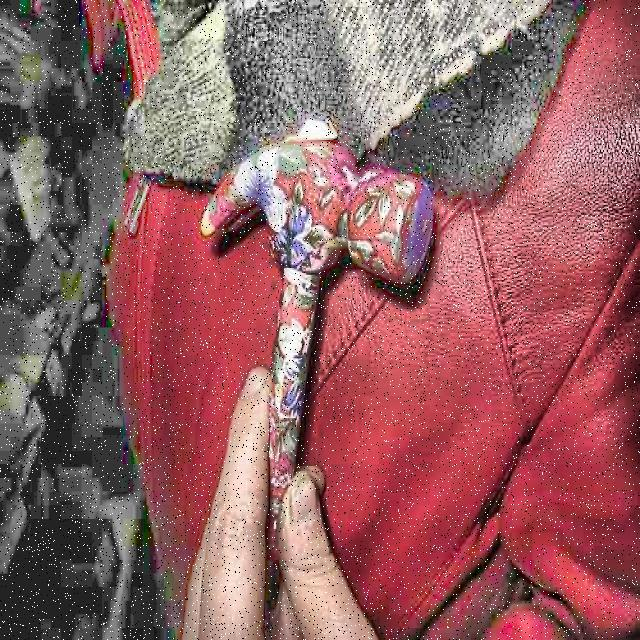hammer: (199, 137, 435, 631)
